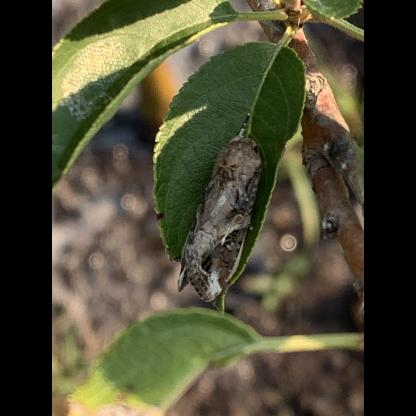Fall Armyworm Moth: (175, 111, 265, 305)
